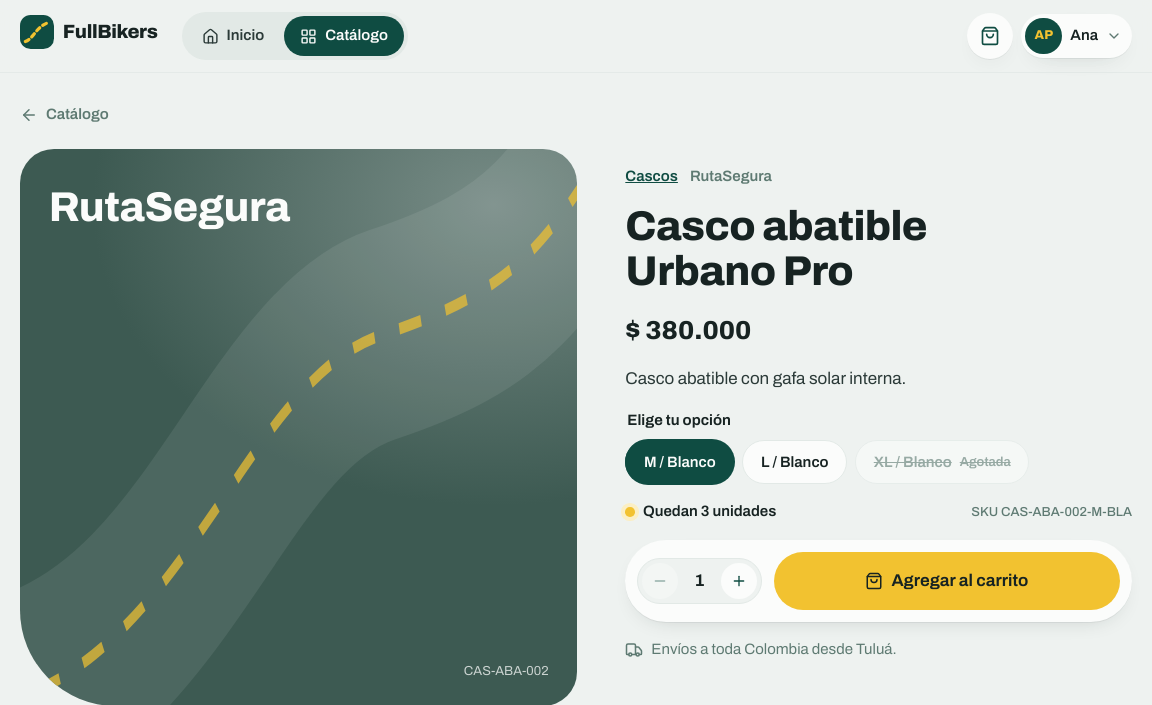
Test: catálogo y carrito › explica el stock insuficiente al agregar
Click the button "Agregar al carrito".
click(947, 581)  # box [774, 552, 1120, 610]
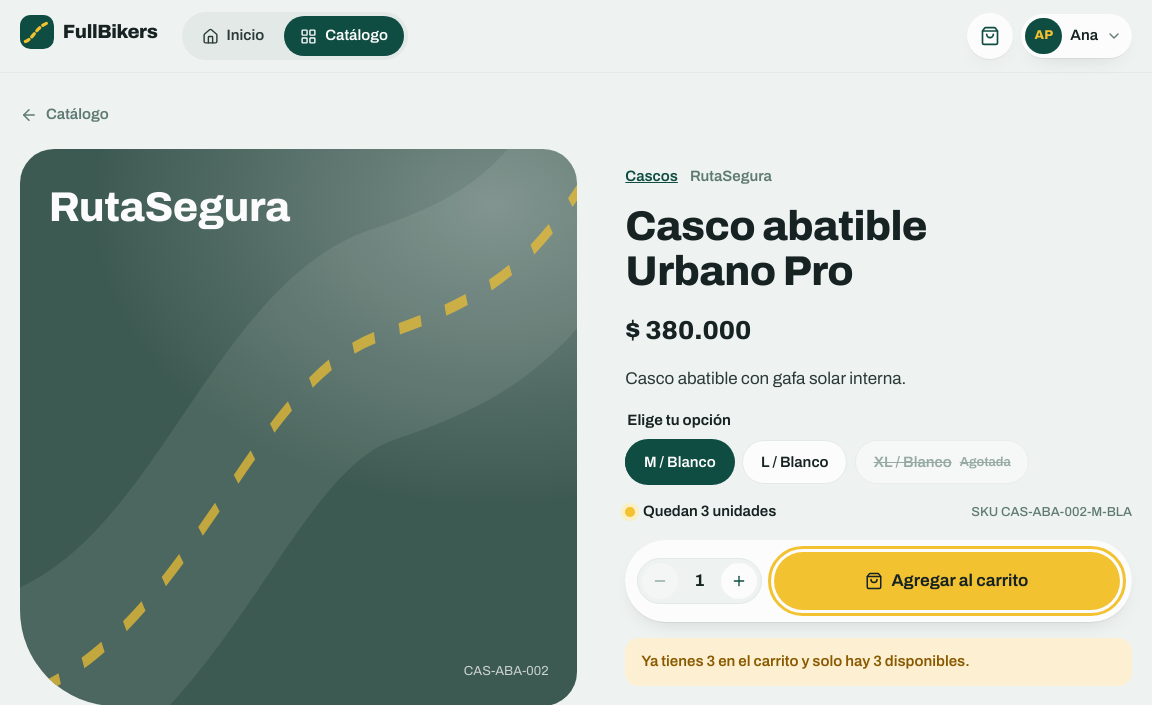
Expected: the text "Ya tienes 3 en el carrito y solo hay 3 disponibles." is shown, [625, 638, 1132, 686]
